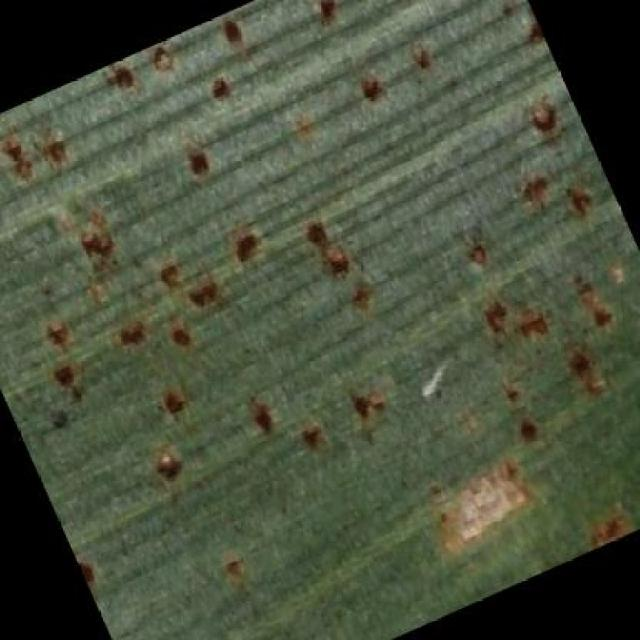Corn_Rust: (71, 88, 569, 540)
